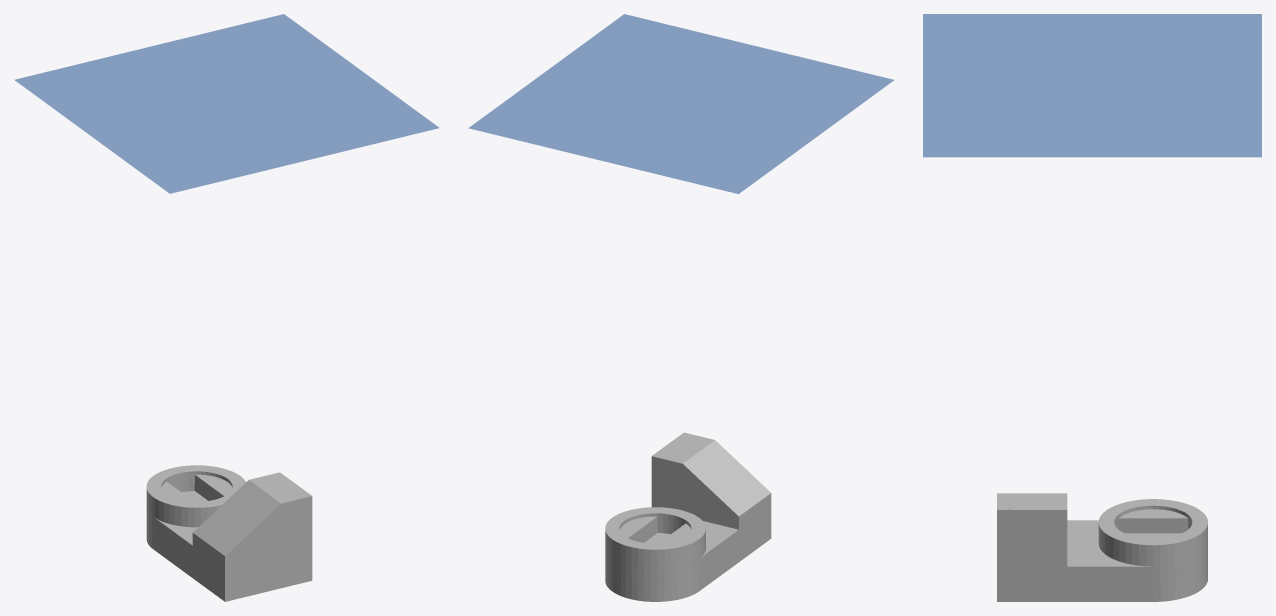
Rendered from init.glb.
The picture shows the model from 3 angles, left to right: view 1: azimuth 30°, elevation 25°; view 2: azimuth 150°, elevation 25°; view 3: azimuth 270°, elevation 25°; orthographic projection. The views are drawn at different scales.
Visible parts, largest first — view 1: world, object.obj; view 2: world, object.obj; view 3: world, object.obj.
Part boxes in pixels (bbox=[...]): world: bbox=[14, 14, 439, 193]; object.obj: bbox=[146, 465, 312, 601]; world: bbox=[468, 14, 893, 193]; object.obj: bbox=[605, 432, 771, 601]; world: bbox=[923, 14, 1261, 157]; object.obj: bbox=[997, 493, 1207, 601].
Size of the model in its own units: 0.6206 by 0.9992 by 0.6206.
